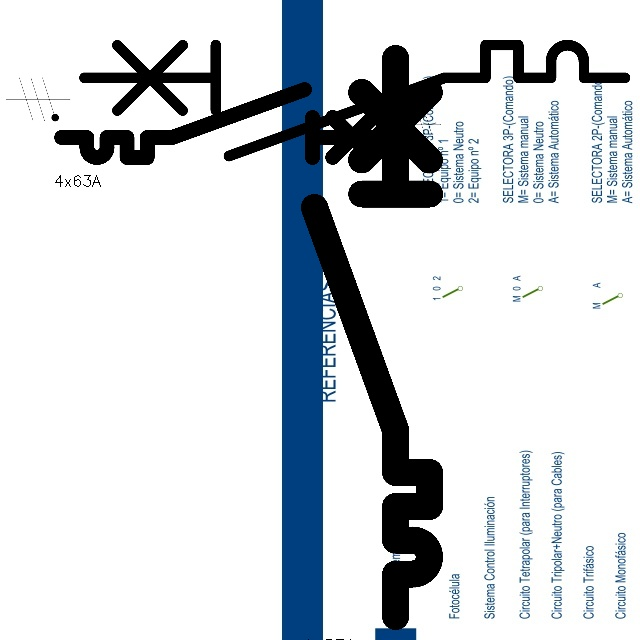interruptor_termomagnetico: (300, 44, 444, 631), (70, 31, 639, 170), (53, 81, 401, 166)
